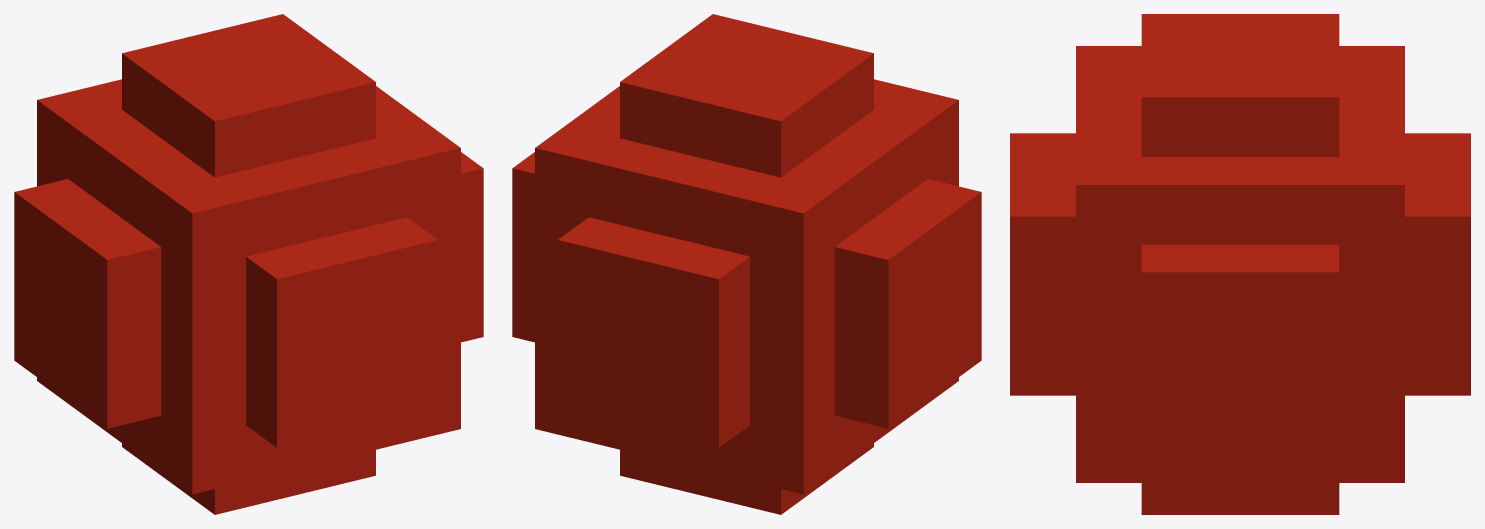
File: berry_2.glb
3 views of the same model, side by side, from view 1: azimuth 30°, elevation 25°; view 2: azimuth 150°, elevation 25°; view 3: azimuth 270°, elevation 25° (orthographic). The views are drawn at different scales.
Parts seen in each view (by area): view 1: Untitled; view 2: Untitled; view 3: Untitled.
Part boxes in pixels (x1,y1,x2,y2): Untitled: (14, 14, 483, 514); Untitled: (512, 14, 981, 514); Untitled: (1010, 14, 1470, 514).
Bounding box in the file's own units: 0.2 × 0.2 × 0.2.
Materials: 1 (1 with a texture image).
